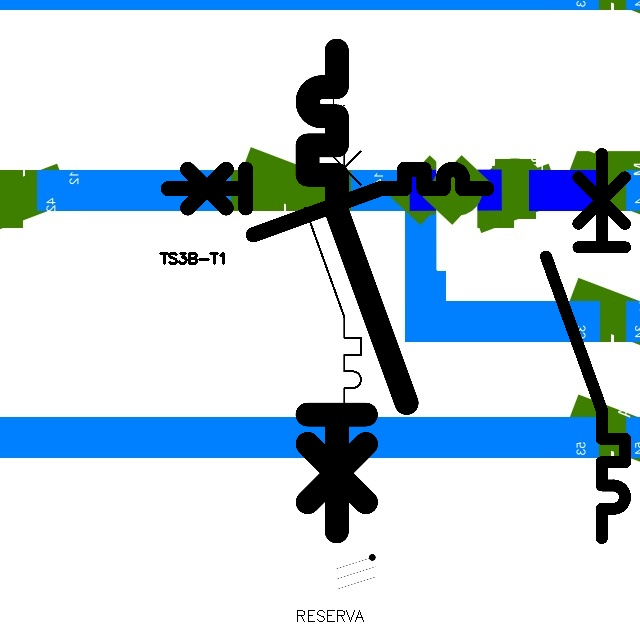interruptor_termomagnetico: (295, 38, 419, 544), (536, 144, 635, 548), (160, 161, 495, 243), (298, 127, 368, 415)
